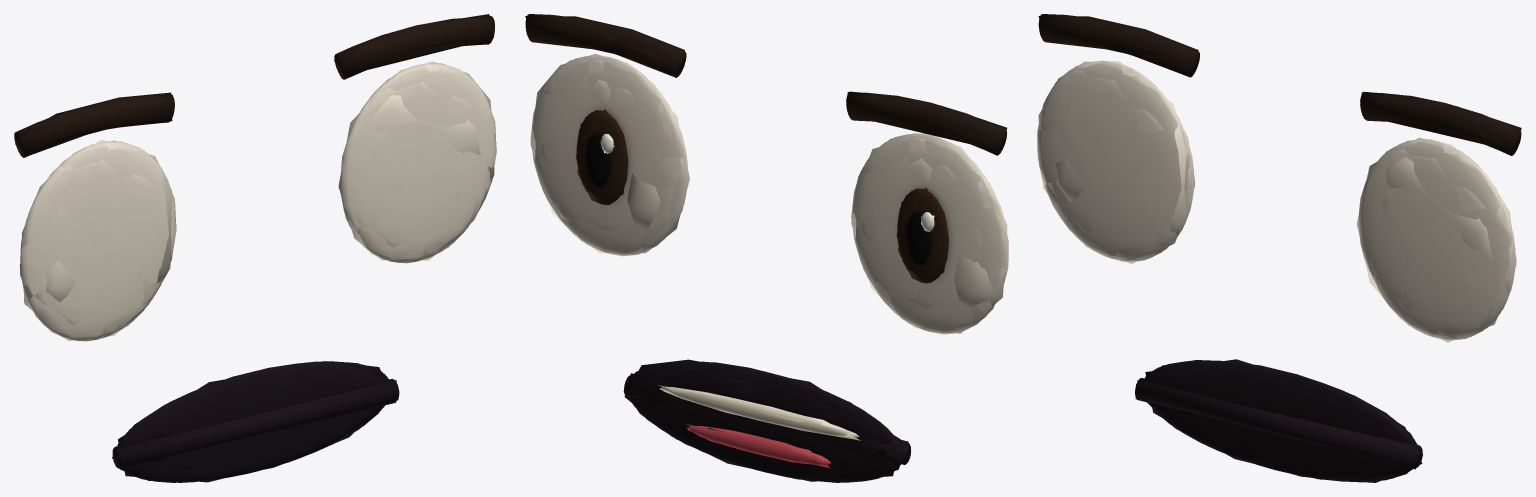
File: amazed.glb
3 renders of one model, left to right at view 1: azimuth 30°, elevation 25°; view 2: azimuth 150°, elevation 25°; view 3: azimuth 330°, elevation 25°, orthographic.
Visible parts, largest first — view 1: near, mid, far; view 2: near, mid, far; view 3: near, mid, far.
Part boxes in pixels (x1,y1,x2,y2): near: (14, 16, 496, 482); mid: (14, 16, 495, 482); far: (19, 14, 494, 482); near: (525, 14, 1008, 482); mid: (525, 14, 1008, 482); far: (525, 16, 1007, 481); near: (1037, 14, 1521, 481); mid: (1037, 14, 1520, 482); far: (1038, 16, 1521, 482).
Bounding box in the file's own units: 0.6703 × 0.5479 × 0.0542.
8 materials, 8 textured.
